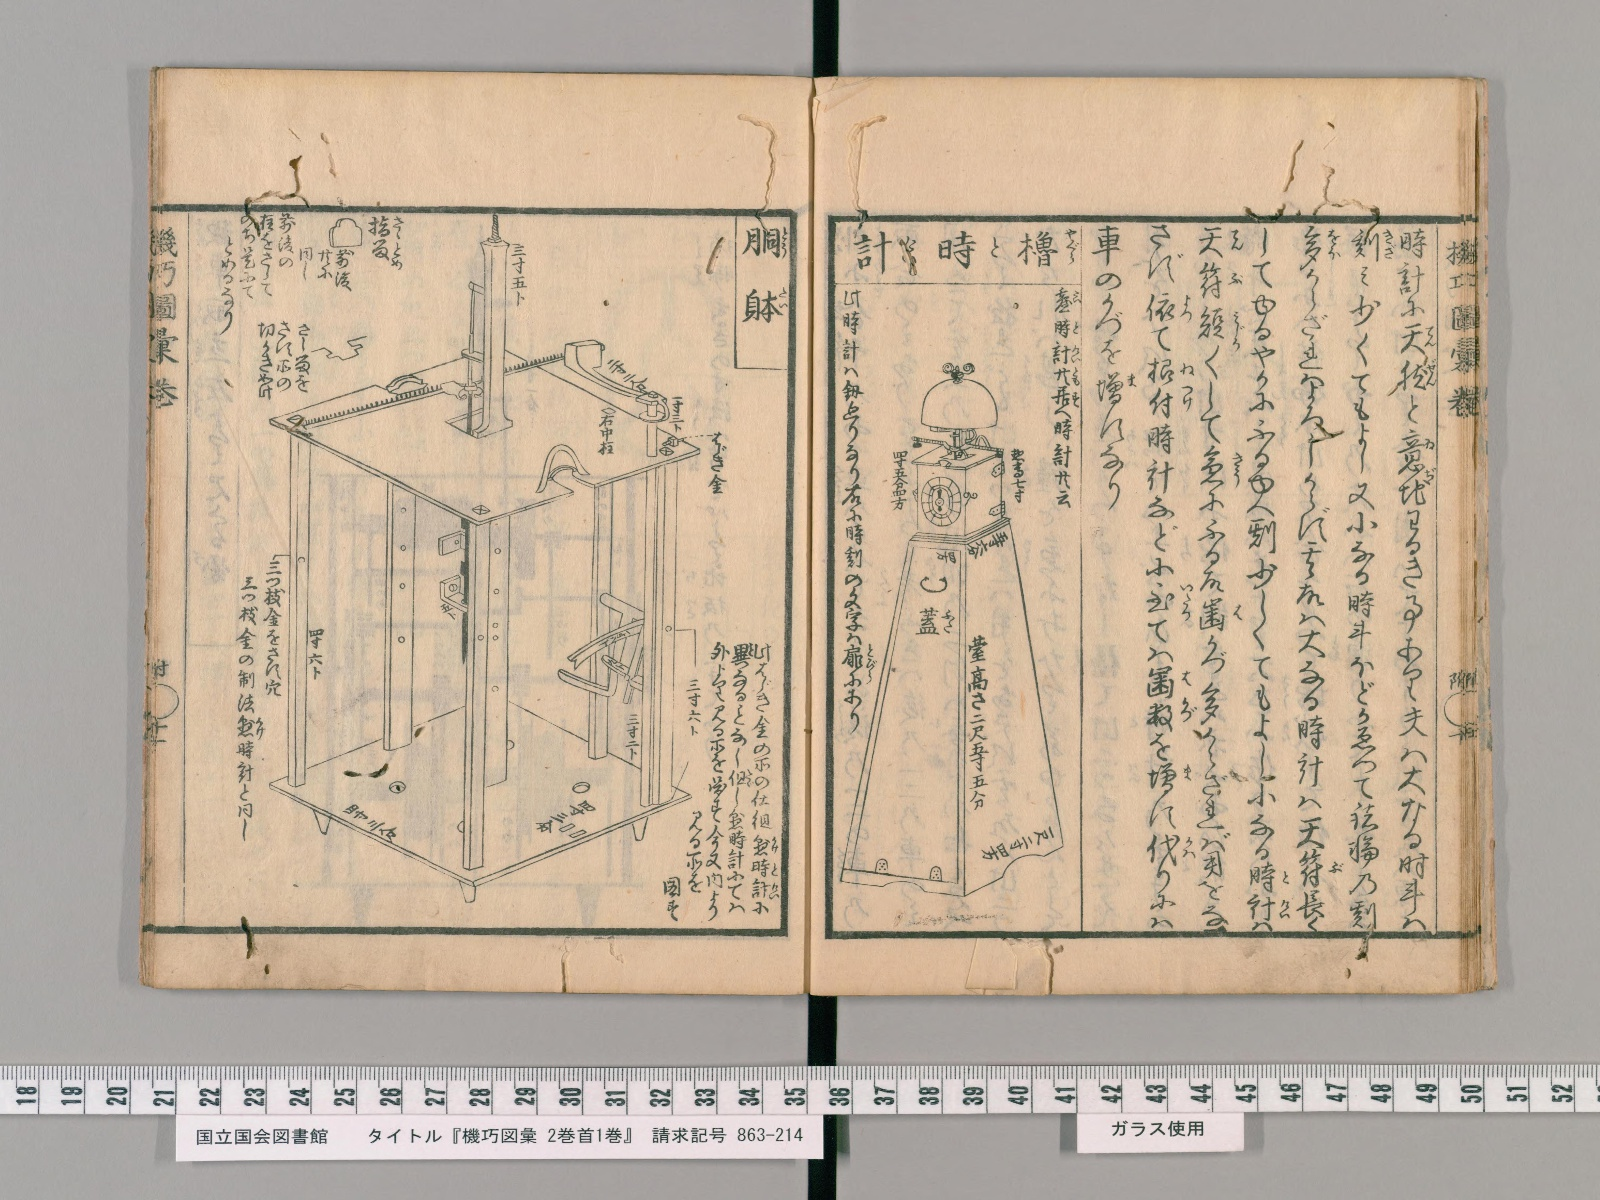1_overall: (137, 71, 1497, 998)
2_handwritten: (1191, 224, 1231, 932), (1143, 222, 1183, 928), (1344, 229, 1385, 932), (1243, 224, 1283, 935), (1293, 224, 1332, 933), (1393, 229, 1430, 932), (842, 287, 866, 732), (1092, 224, 1128, 513), (704, 640, 731, 921), (234, 574, 260, 842), (727, 642, 750, 915), (750, 643, 771, 916), (1049, 286, 1073, 511), (965, 634, 991, 812), (265, 560, 286, 700), (685, 807, 707, 896), (218, 236, 236, 337), (238, 213, 256, 303), (256, 321, 275, 401), (275, 319, 294, 392), (277, 209, 299, 272), (260, 214, 275, 299), (889, 449, 910, 512), (711, 430, 729, 495), (1008, 446, 1028, 507), (367, 213, 391, 263), (296, 321, 312, 393), (661, 874, 685, 921), (333, 247, 354, 292), (913, 605, 941, 638), (317, 248, 335, 284), (299, 246, 312, 282)
3_typography: (740, 226, 784, 325), (850, 228, 894, 276), (935, 229, 979, 272), (1015, 229, 1060, 270)
4_illustration: (262, 212, 709, 910), (839, 359, 1068, 904)
